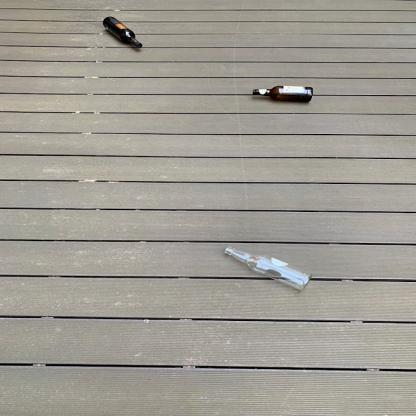trash: (223, 246, 318, 293), (102, 16, 147, 52), (247, 83, 314, 102)
